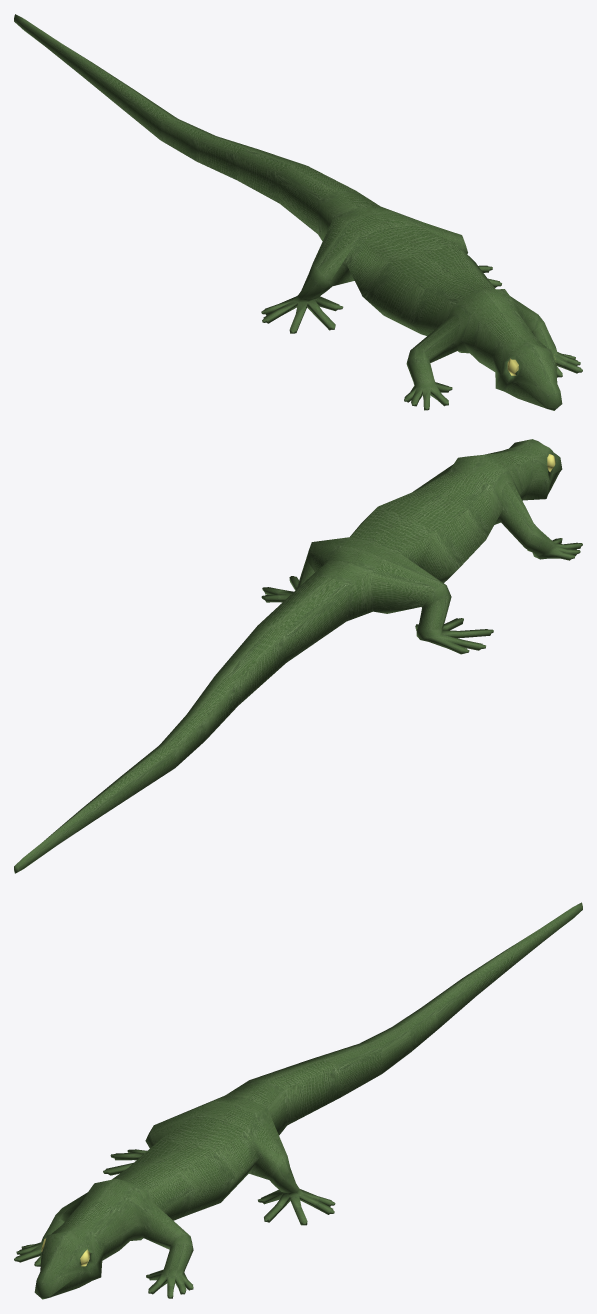
The model's file is Lizard3.fbx.
3 renders of one model, top to bottom at view 1: azimuth 30°, elevation 25°; view 2: azimuth 150°, elevation 25°; view 3: azimuth 330°, elevation 25°, orthographic.
Visible parts, largest first — view 1: Lizard; view 2: Lizard; view 3: Lizard.
Part boxes in pixels (bbox=[...]): Lizard: bbox=[14, 14, 582, 410]; Lizard: bbox=[14, 439, 582, 873]; Lizard: bbox=[14, 902, 582, 1299].
Size of the model in its own units: 271 by 99.68 by 1121.
